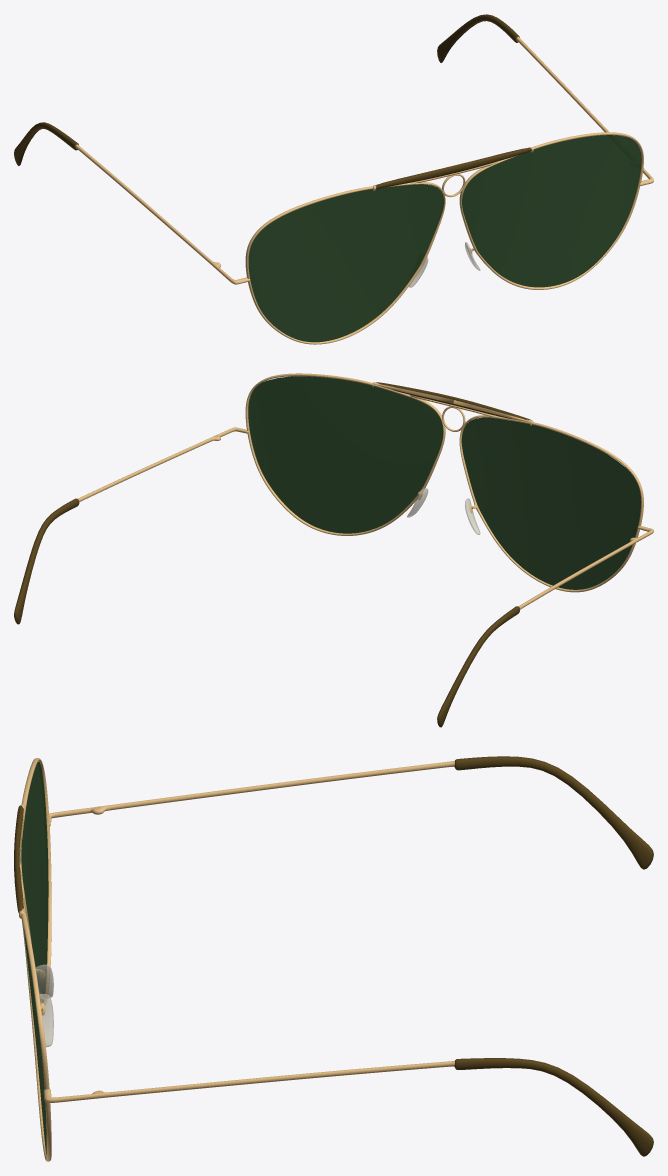
The model's file is glasses_aviators.glb.
3 views of the same model, one above another, from view 1: azimuth 30°, elevation 25°; view 2: azimuth 150°, elevation 25°; view 3: azimuth 270°, elevation 25° (orthographic). The views are drawn at different scales.
Parts seen in each view (by area): view 1: Sketchfab_model; view 2: Sketchfab_model; view 3: Sketchfab_model.
Part boxes in pixels (bbox=[...]): Sketchfab_model: bbox=[14, 14, 653, 344]; Sketchfab_model: bbox=[14, 373, 653, 727]; Sketchfab_model: bbox=[14, 756, 653, 1161].
Bounding box in the file's own units: 4.09 × 1.37 × 3.63.
